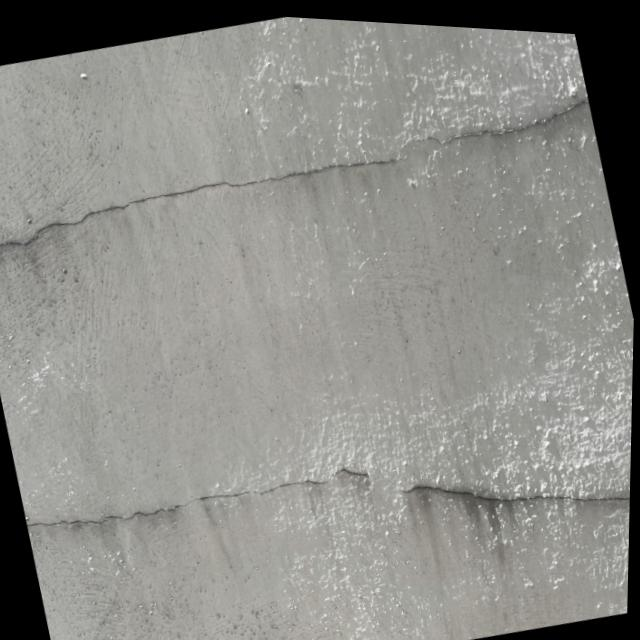Crack: (21, 352, 634, 640), (0, 42, 600, 289)
